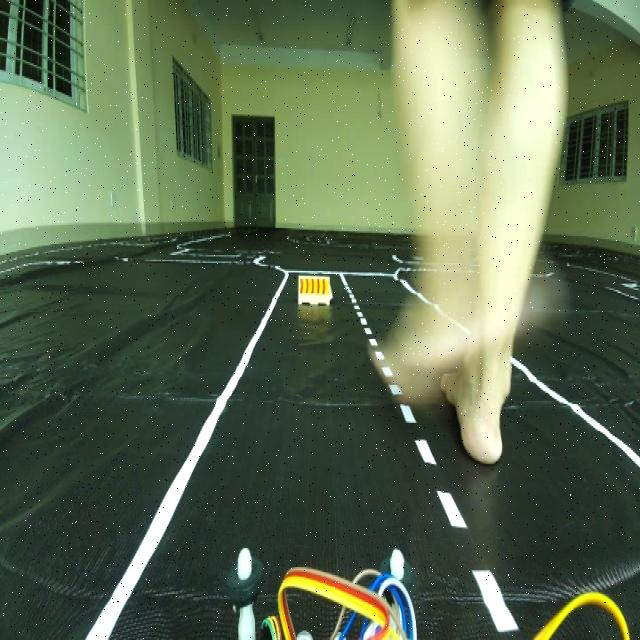roadblock: (286, 268, 344, 320)
